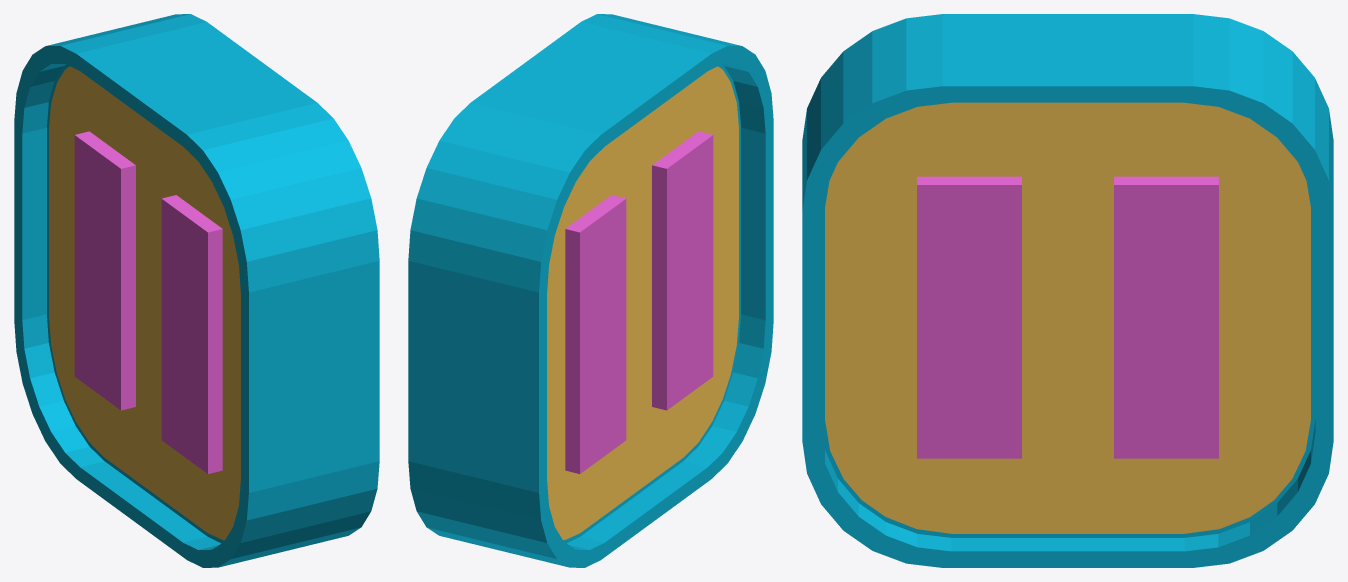
The model's file is Pause.glb.
The picture shows the model from 3 angles, left to right: view 1: azimuth 30°, elevation 25°; view 2: azimuth 150°, elevation 25°; view 3: azimuth 270°, elevation 25°; orthographic projection. The views are drawn at different scales.
Parts seen in each view (by area): view 1: Button, Pause; view 2: Button, Pause; view 3: Button, Pause.
Boxes of the visible parts, x1,y1,x2,y2 form: Button: [14, 14, 379, 567]; Pause: [74, 131, 222, 473]; Button: [408, 14, 773, 567]; Pause: [565, 131, 713, 473]; Button: [802, 14, 1333, 567]; Pause: [917, 176, 1218, 458].
Size of the model in its own units: 0.4785 by 1.49 by 1.49.
